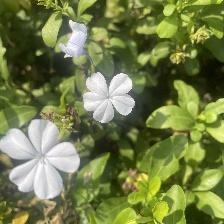chitrak: (1, 117, 82, 202), (78, 68, 138, 124)
